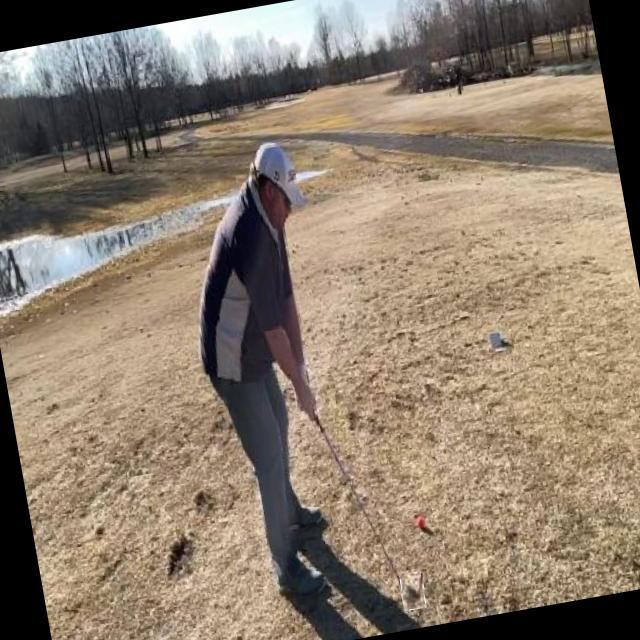club head: (398, 572, 426, 610)
